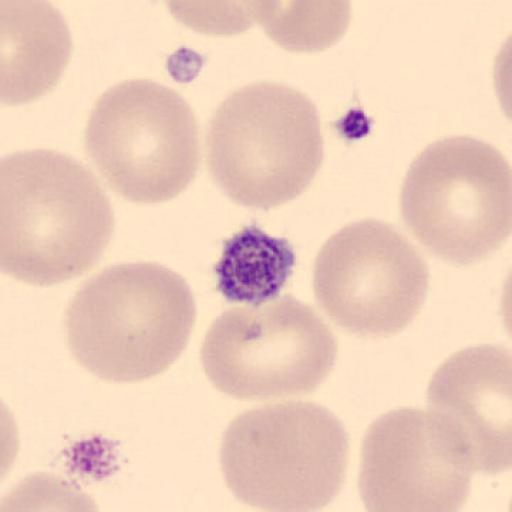Platelet: (209, 221, 300, 308), (58, 428, 128, 486), (161, 42, 212, 88)
RBC: (63, 258, 199, 387), (204, 78, 326, 214), (0, 146, 115, 290), (198, 292, 340, 403), (398, 132, 512, 270), (215, 399, 352, 512), (84, 75, 202, 206), (311, 215, 430, 339), (356, 404, 474, 511), (422, 340, 512, 474), (1, 0, 74, 109), (249, 0, 354, 55), (1, 469, 106, 512), (160, 0, 270, 39), (490, 28, 512, 126), (0, 394, 21, 492)
